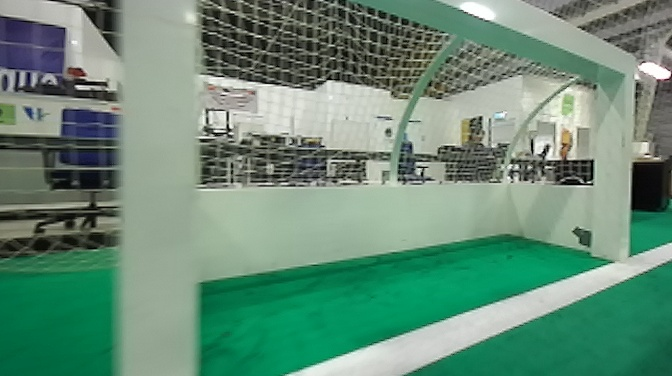goalpost: (116, 2, 201, 376), (597, 72, 633, 261)
